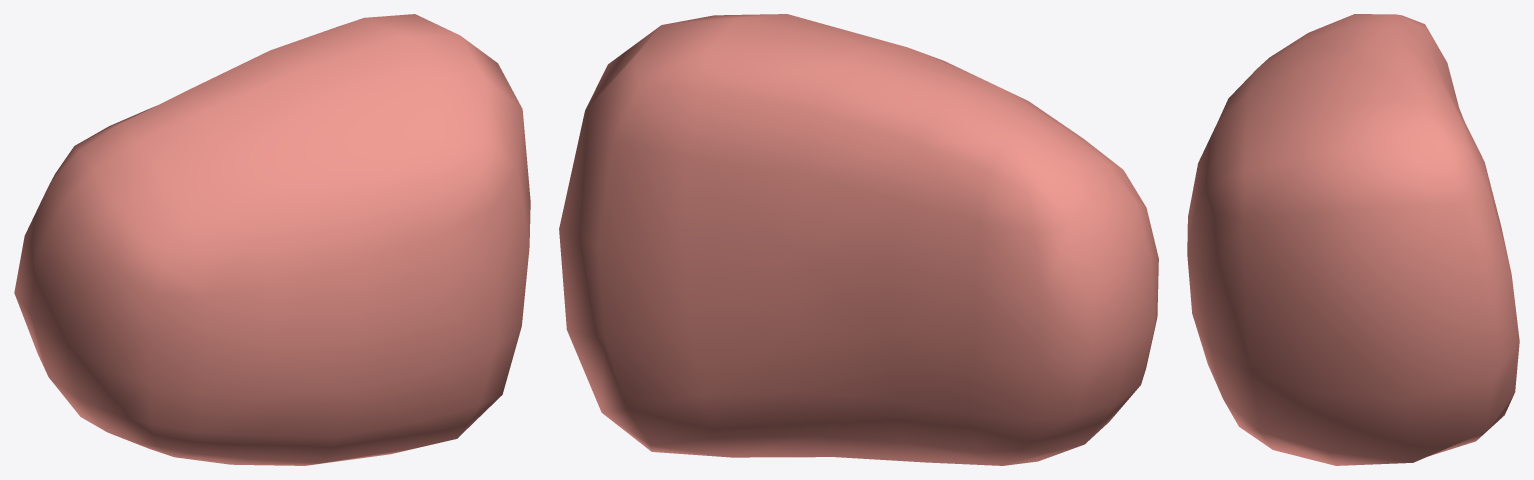
The model's file is mixamo_humanoid_surface_rightHandPinky3.fbx.
The picture shows the model from 3 angles, left to right: view 1: azimuth 30°, elevation 25°; view 2: azimuth 150°, elevation 25°; view 3: azimuth 270°, elevation 25°; orthographic projection. The views are drawn at different scales.
Parts seen in each view (by area): view 1: surface_RightHandPinky3; view 2: surface_RightHandPinky3; view 3: surface_RightHandPinky3.
Part boxes in pixels (x1,y1,x2,y2): surface_RightHandPinky3: (14,14,530,465); surface_RightHandPinky3: (559,14,1158,465); surface_RightHandPinky3: (1187,14,1519,465).
Bounding box in the file's own units: 2.3 × 1.71 × 1.45.
